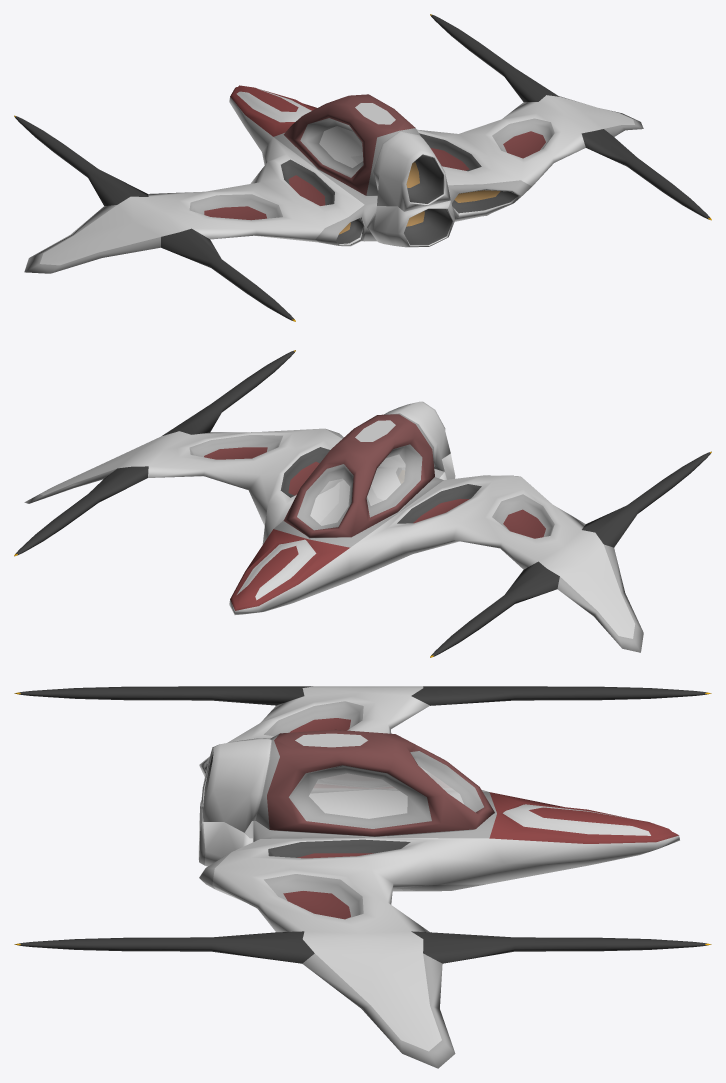
The model's file is spaceship_smooth.fbx.
3 views of the same model, one above another, from view 1: azimuth 30°, elevation 25°; view 2: azimuth 150°, elevation 25°; view 3: azimuth 270°, elevation 25° (orthographic). The views are drawn at different scales.
Parts seen in each view (by area): view 1: spaceship_smooth; view 2: spaceship_smooth; view 3: spaceship_smooth.
Boxes of the visible parts, x1=… form: spaceship_smooth: x1=14, y1=14, x2=711, y2=321; spaceship_smooth: x1=14, y1=350, x2=711, y2=657; spaceship_smooth: x1=14, y1=686, x2=711, y2=1068.
Size of the model in its own units: 40.19 by 7.2 by 31.84.
